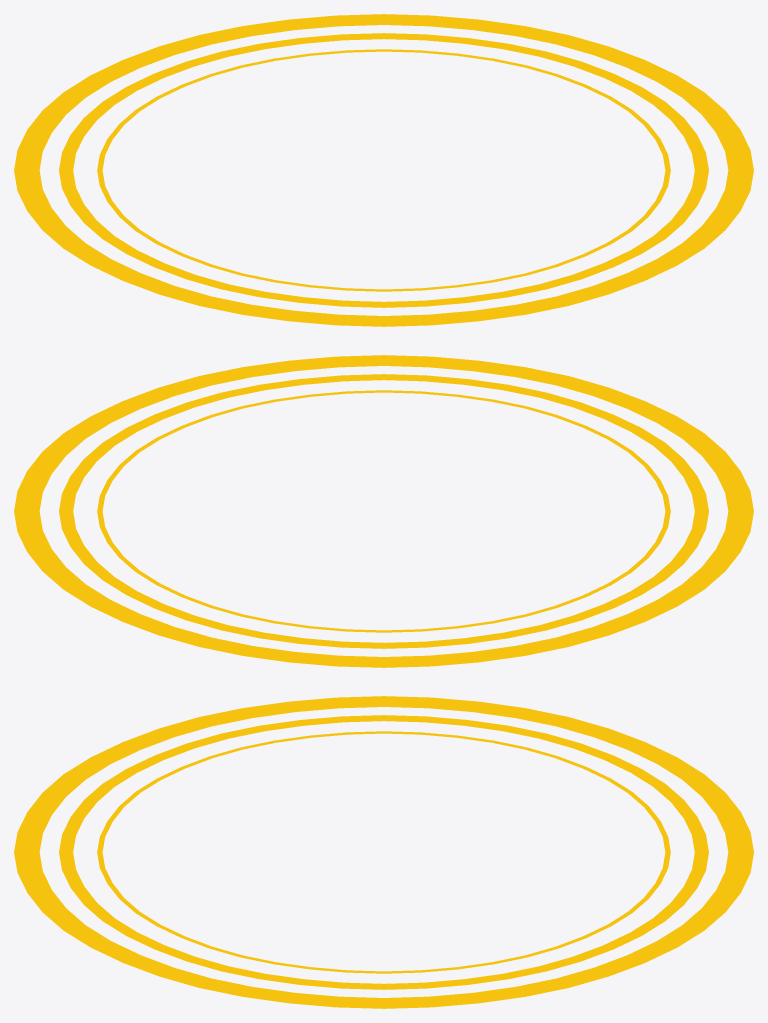
Rendered from glow_rings.glb.
3 views of the same model, one above another, from view 1: azimuth 30°, elevation 25°; view 2: azimuth 150°, elevation 25°; view 3: azimuth 270°, elevation 25° (orthographic).
Visible parts, largest first — view 1: basketball_hoop.001; view 2: basketball_hoop.001; view 3: basketball_hoop.001.
Part boxes in pixels (x1,y1,x2,y2): basketball_hoop.001: [14, 14, 753, 326]; basketball_hoop.001: [14, 355, 753, 667]; basketball_hoop.001: [14, 696, 753, 1008].
Size of the model in its own units: 6.2 by 1.68e-09 by 6.2.
Materials: 1 (1 with a texture image).
